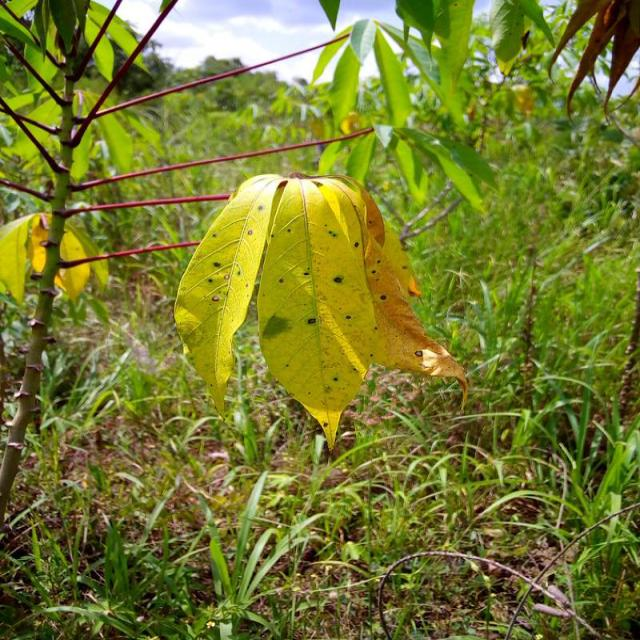cassava leaf: (173, 170, 467, 451), (0, 210, 109, 308)
